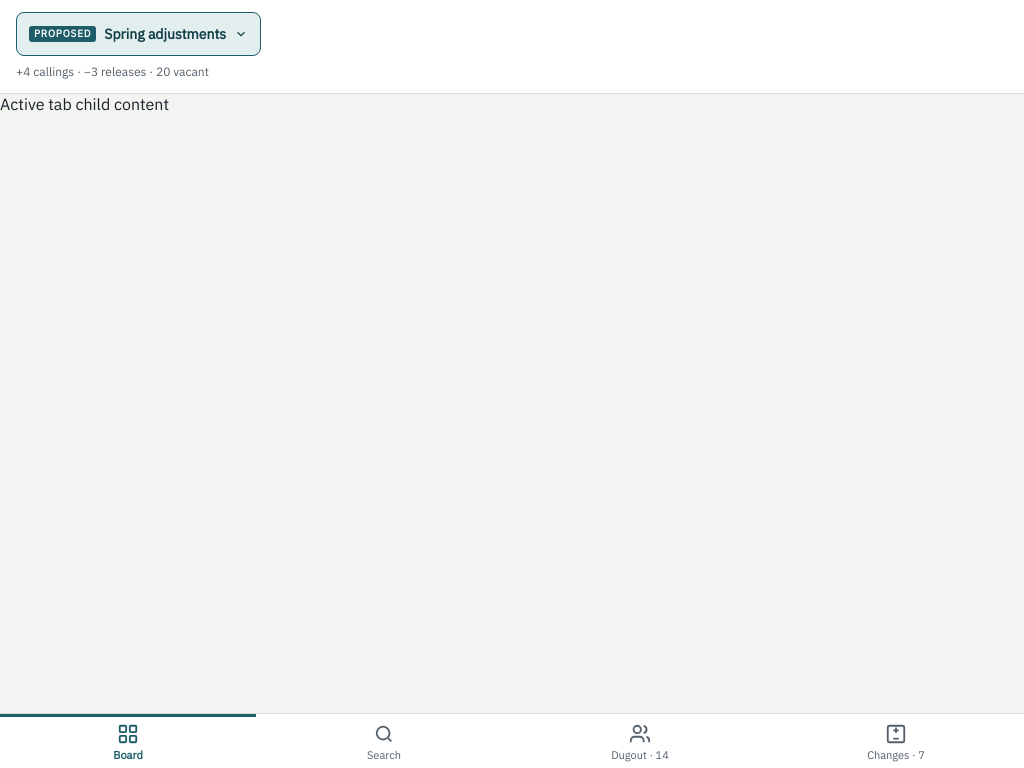
PhoneShell › choosing another board selects it once and closes
Click the button with aria-label "Switch board, current board Spring adjustments". click: [139, 34]
box: [16,12,261,56]
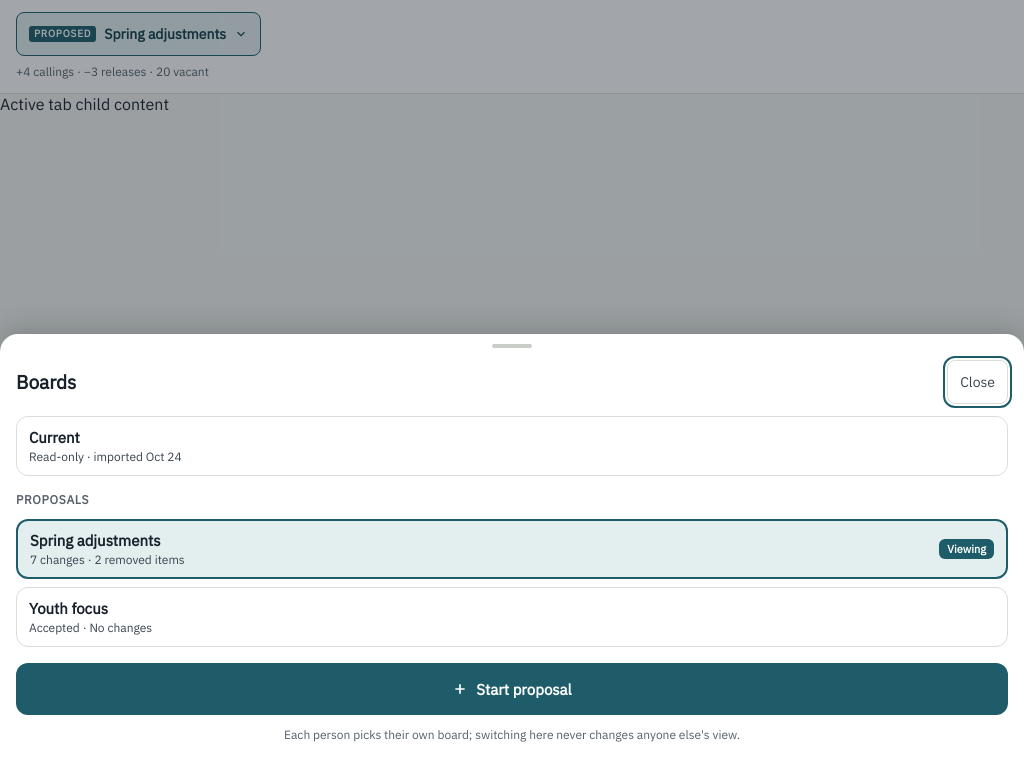
Click the button "Youth focus Accepted · No changes". click: [68, 609]
box: [16,587,1008,647]
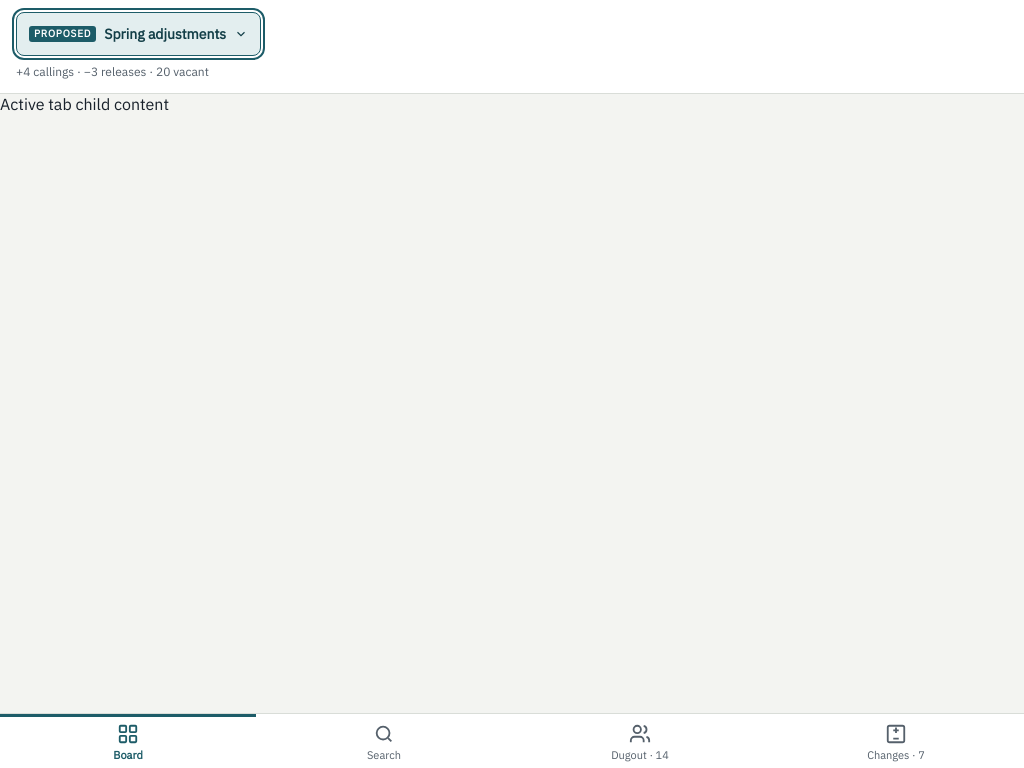
Now the dialog is gone
